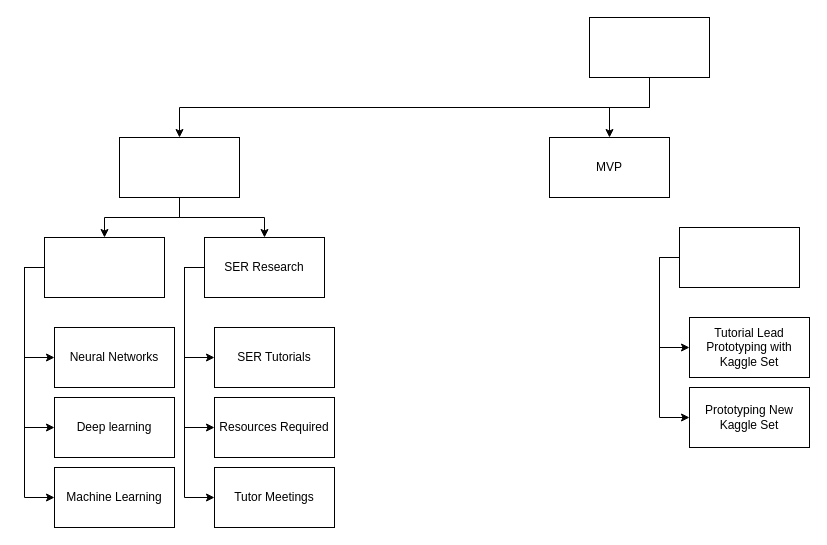
The diagram is 827 pixels wide and 545 high, and some of its shapes have lost their labels. Here are the shapes that lost their labels. From the top down, the centre of each, then its label:
At pixel 649 47: "KANO".
At pixel 179 167: "Research & Training".
At pixel 104 267: "AI".
